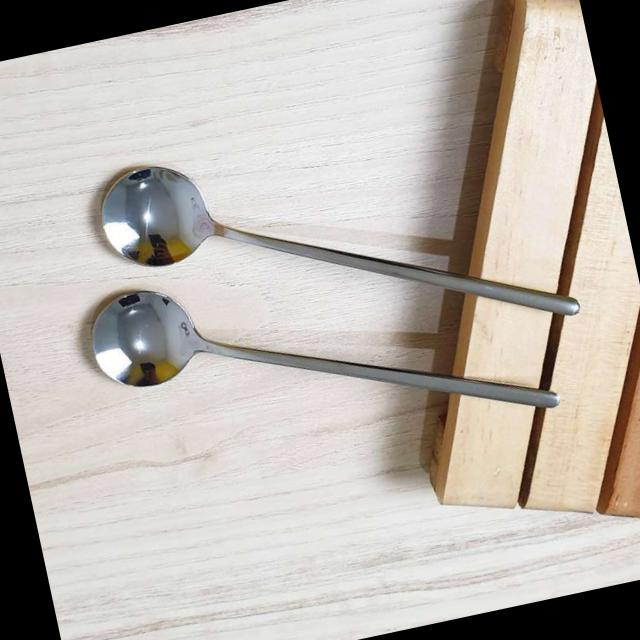spoon: (82, 159, 594, 329)
